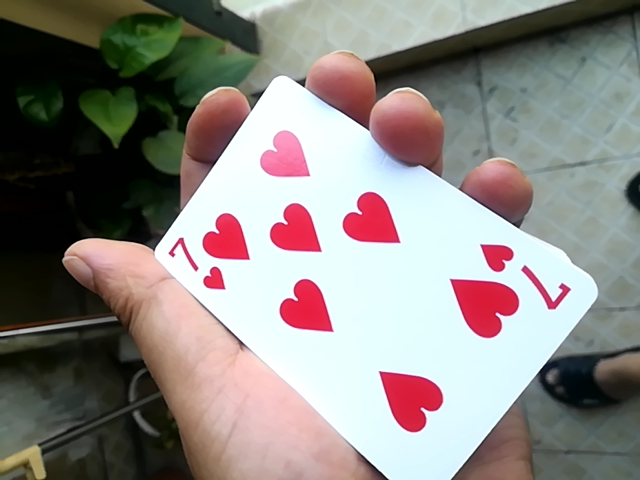hx 7: (136, 58, 597, 480)
